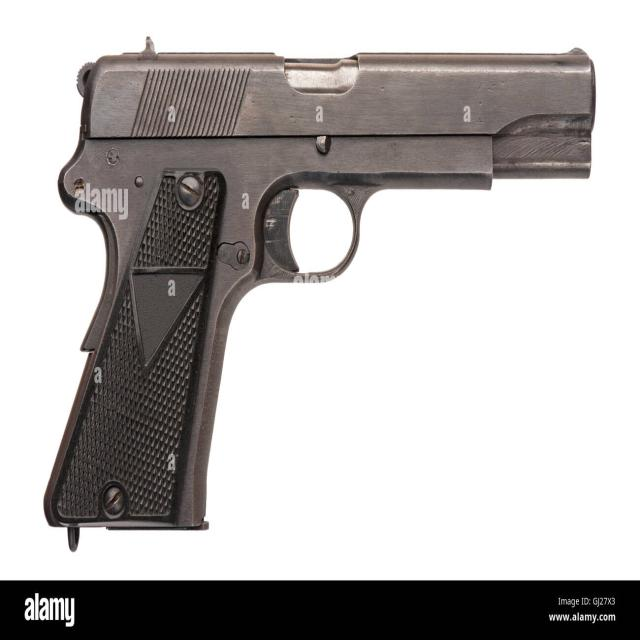HandGun: (43, 40, 597, 551)
